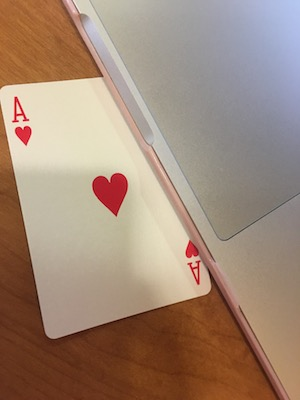AceOfHearts: (1, 72, 213, 342)
